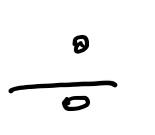div: (8, 34, 117, 110)
